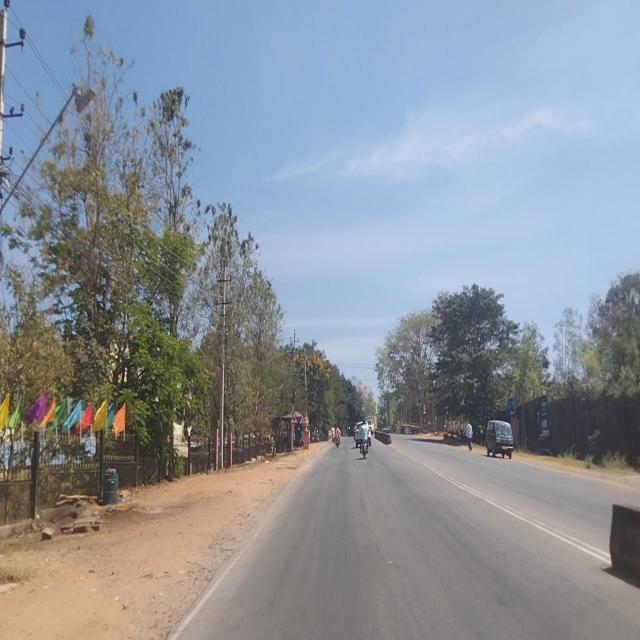bien_cam: (290, 411, 298, 425), (299, 413, 306, 425)
